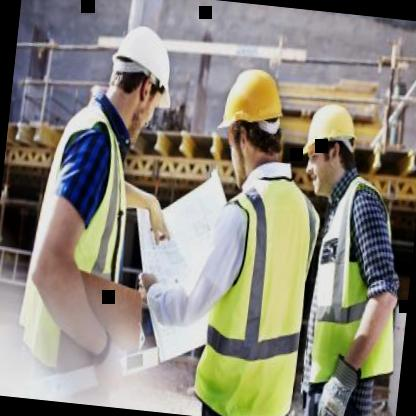helmet: (100, 16, 179, 148), (214, 65, 297, 190), (296, 101, 365, 203)
